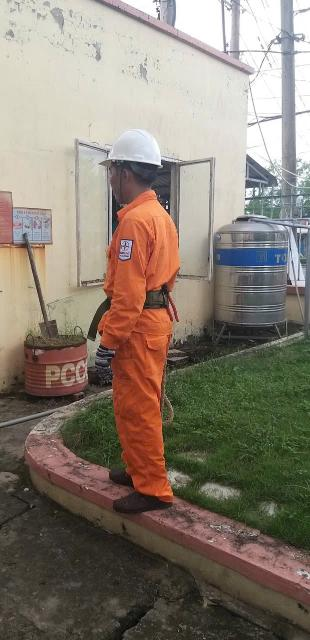gloves: (83, 344, 124, 389)
harness: (91, 282, 191, 323)
helmet: (88, 131, 167, 172)
shoes: (106, 482, 183, 518), (104, 462, 149, 489)
